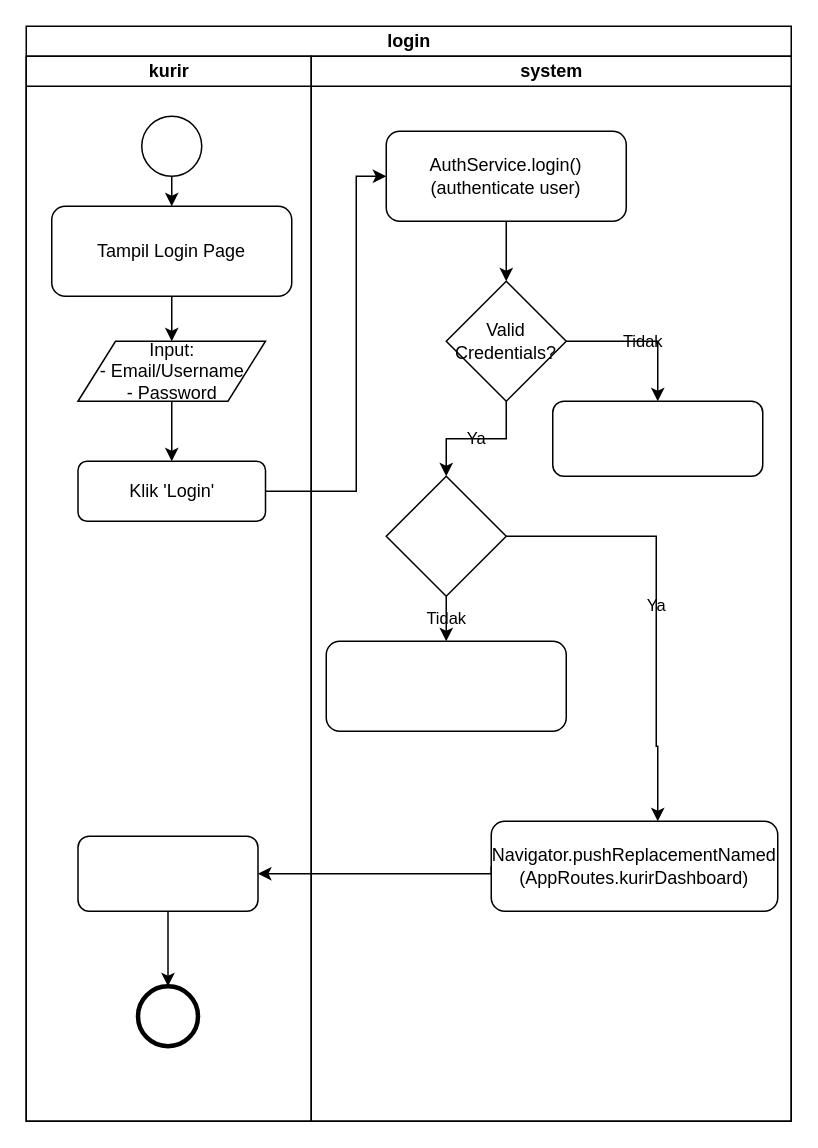
This 818x1148 diagram has some shape labels left out. Each missing label, with the centre of its shape:
"berhasil masuk dashboard kurir" belongs at pixel 167 873.
"ke dahboard role lain" belongs at pixel 445 685.
"Role = 'kurir'?" belongs at pixel 445 535.
"Snackbar: 'Email atau password salah'" belongs at pixel 657 438.
